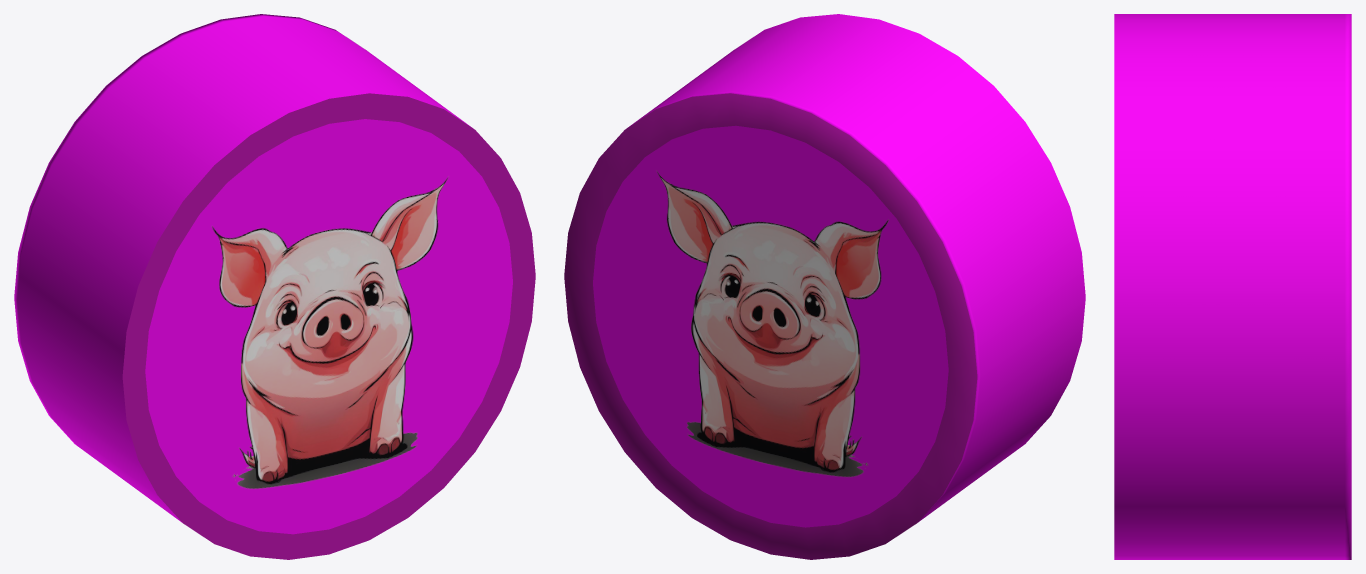
The model's file is свинья.fbx.
3 renders of one model, left to right at view 1: azimuth 30°, elevation 25°; view 2: azimuth 150°, elevation 25°; view 3: azimuth 270°, elevation 25°, orthographic. The views are drawn at different scales.
Visible parts, largest first — view 1: Cylinder.002; view 2: Cylinder.002; view 3: Cylinder.002.
Boxes of the visible parts, x1,y1,x2,y2 form: Cylinder.002: [14, 14, 535, 559]; Cylinder.002: [564, 14, 1085, 559]; Cylinder.002: [1114, 14, 1351, 559].
Bounding box in the file's own units: 190 × 200 × 86.22.
